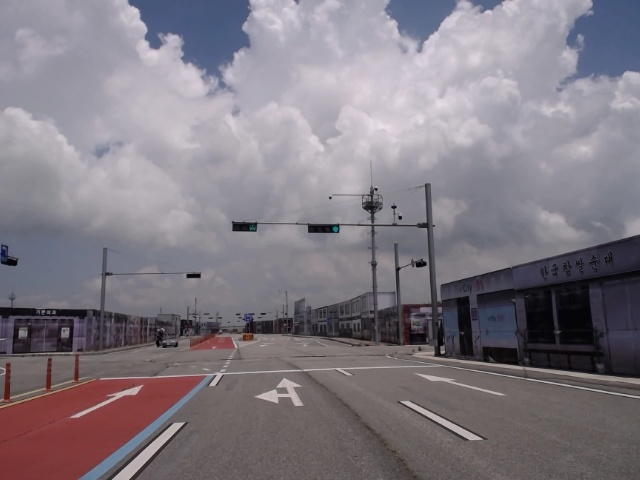straight_green_4: (307, 224, 341, 235)
